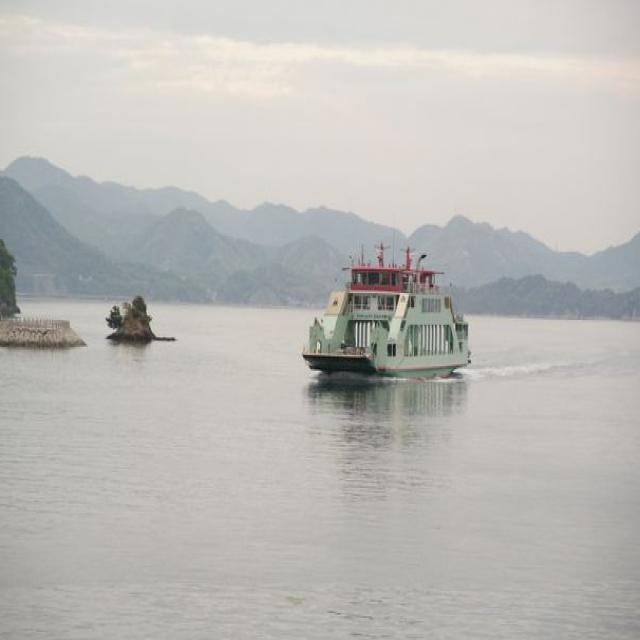houseboat: (302, 233, 478, 375)
